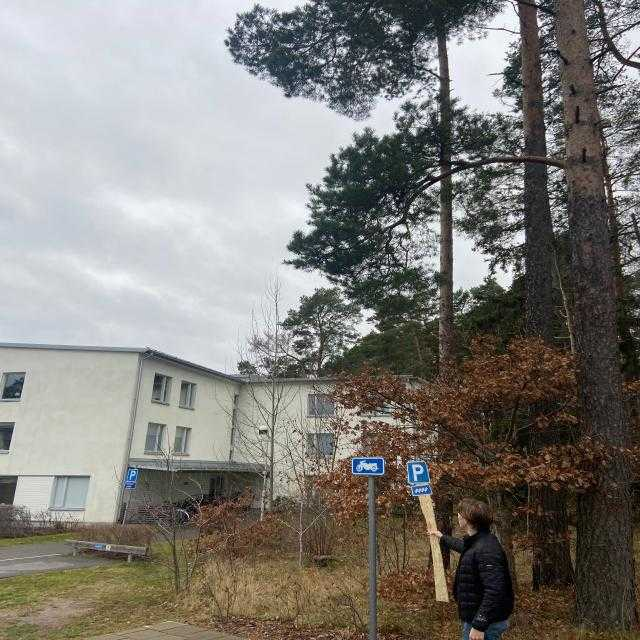psign: (403, 461, 434, 485)
